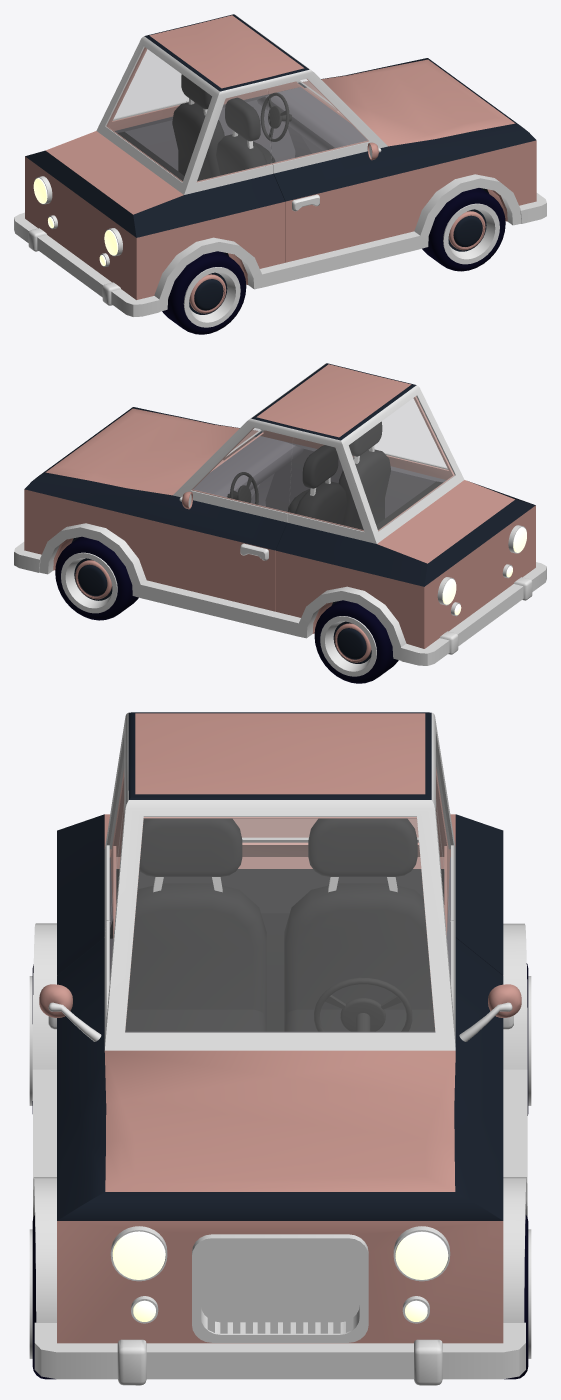
The model's file is low_polly_retro_copper_car.glb.
3 views of the same model, one above another, from view 1: azimuth 30°, elevation 25°; view 2: azimuth 150°, elevation 25°; view 3: azimuth 270°, elevation 25° (orthographic). The views are drawn at different scales.
Visible parts, largest first — view 1: Carroceria_4, Llantas_0, Carroceria.001_7, Asiento_1, Defensas_3, Faros.001_9, Volante_2; view 2: Carroceria_4, Llantas_0, Carroceria.001_7, Asiento_1, Defensas_3, Faros.001_9, Volante_2; view 3: Carroceria_4, Asiento_1, Defensas_3, Carroceria.001_7, Carroceria.002_8, Faros.001_9, Llantas_0, Volante_2, Retrovisores_5, Faros.002_10.
Boxes of the visible parts, x1,y1,x2,y2 form: Carroceria_4: (25, 14, 536, 299); Llantas_0: (162, 188, 505, 334); Carroceria.001_7: (154, 174, 521, 311); Asiento_1: (172, 74, 275, 181); Defensas_3: (14, 193, 546, 316); Faros.001_9: (33, 176, 122, 256); Volante_2: (260, 92, 291, 141); Carroceria_4: (24, 363, 535, 648); Llantas_0: (55, 536, 398, 683); Carroceria.001_7: (39, 523, 406, 660); Asiento_1: (288, 421, 390, 529); Defensas_3: (14, 542, 546, 665); Faros.001_9: (437, 525, 526, 605); Volante_2: (227, 472, 258, 504); Carroceria_4: (57, 712, 503, 1343); Asiento_1: (110, 818, 435, 1031); Defensas_3: (34, 1322, 525, 1385); Carroceria.001_7: (32, 923, 527, 1322); Carroceria.002_8: (207, 1246, 353, 1333); Faros.001_9: (110, 1226, 450, 1281); Llantas_0: (29, 963, 531, 1379); Volante_2: (314, 977, 412, 1031); Retrovisores_5: (39, 984, 521, 1041); Faros.002_10: (131, 1296, 429, 1323).
Size of the model in its own units: 9.13 by 4.52 by 4.67.
